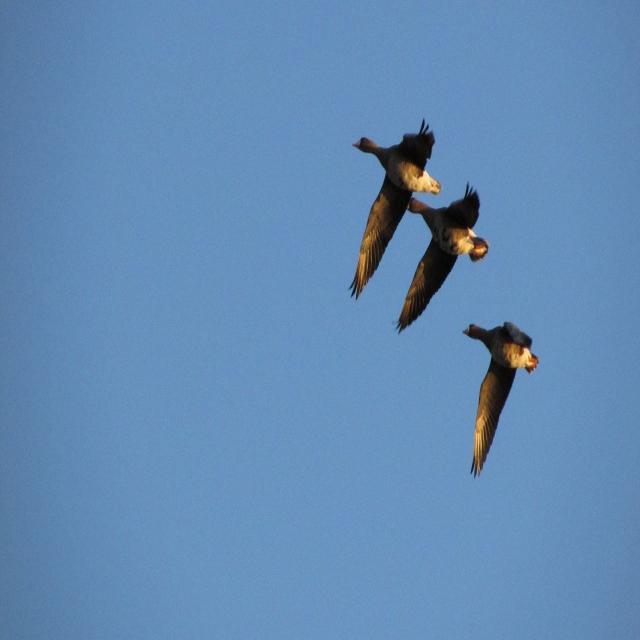bird: (346, 113, 444, 321), (388, 186, 491, 332), (461, 325, 538, 481)
